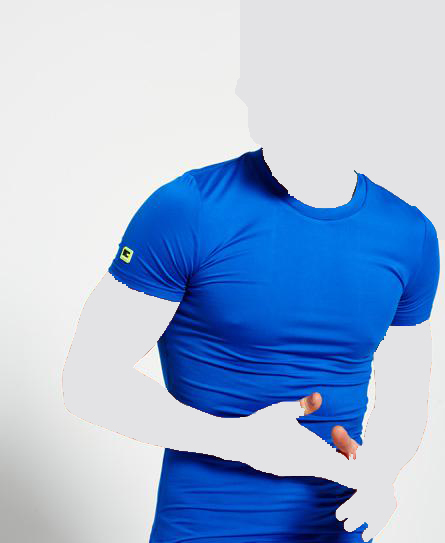teeshirt: (102, 140, 444, 543)
